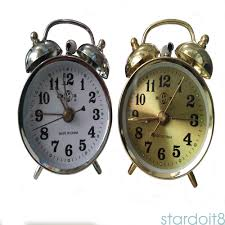alarm_clock: (115, 15, 213, 186), (127, 15, 213, 186)
